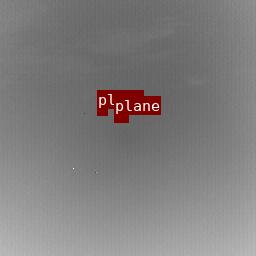plane: (114, 115, 128, 122), (97, 109, 107, 115)
